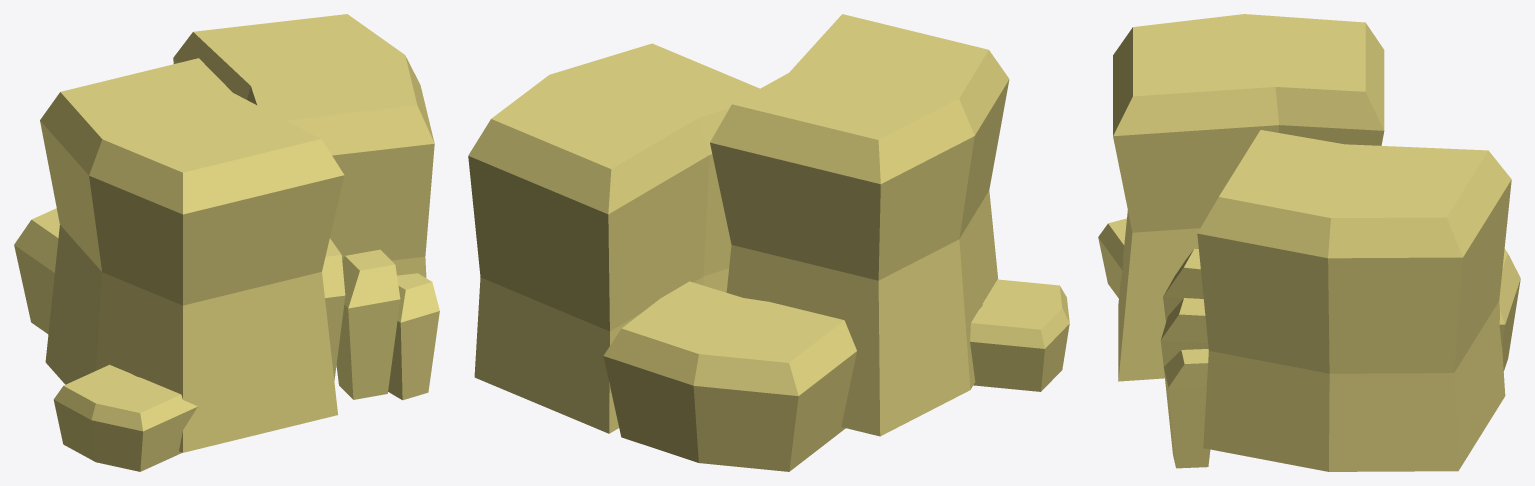
File: RockType6 01.fbx
The picture shows the model from 3 angles, left to right: view 1: azimuth 30°, elevation 25°; view 2: azimuth 150°, elevation 25°; view 3: azimuth 270°, elevation 25°; orthographic projection. The views are drawn at different scales.
Visible parts, largest first — view 1: Rock Type6 01 mesh; view 2: Rock Type6 01 mesh; view 3: Rock Type6 01 mesh.
Part boxes in pixels (<box>): Rock Type6 01 mesh: <box>14,14,439,471</box>; Rock Type6 01 mesh: <box>468,14,1069,471</box>; Rock Type6 01 mesh: <box>1098,14,1520,471</box>.
Size of the model in its own units: 187 by 127 by 157.
